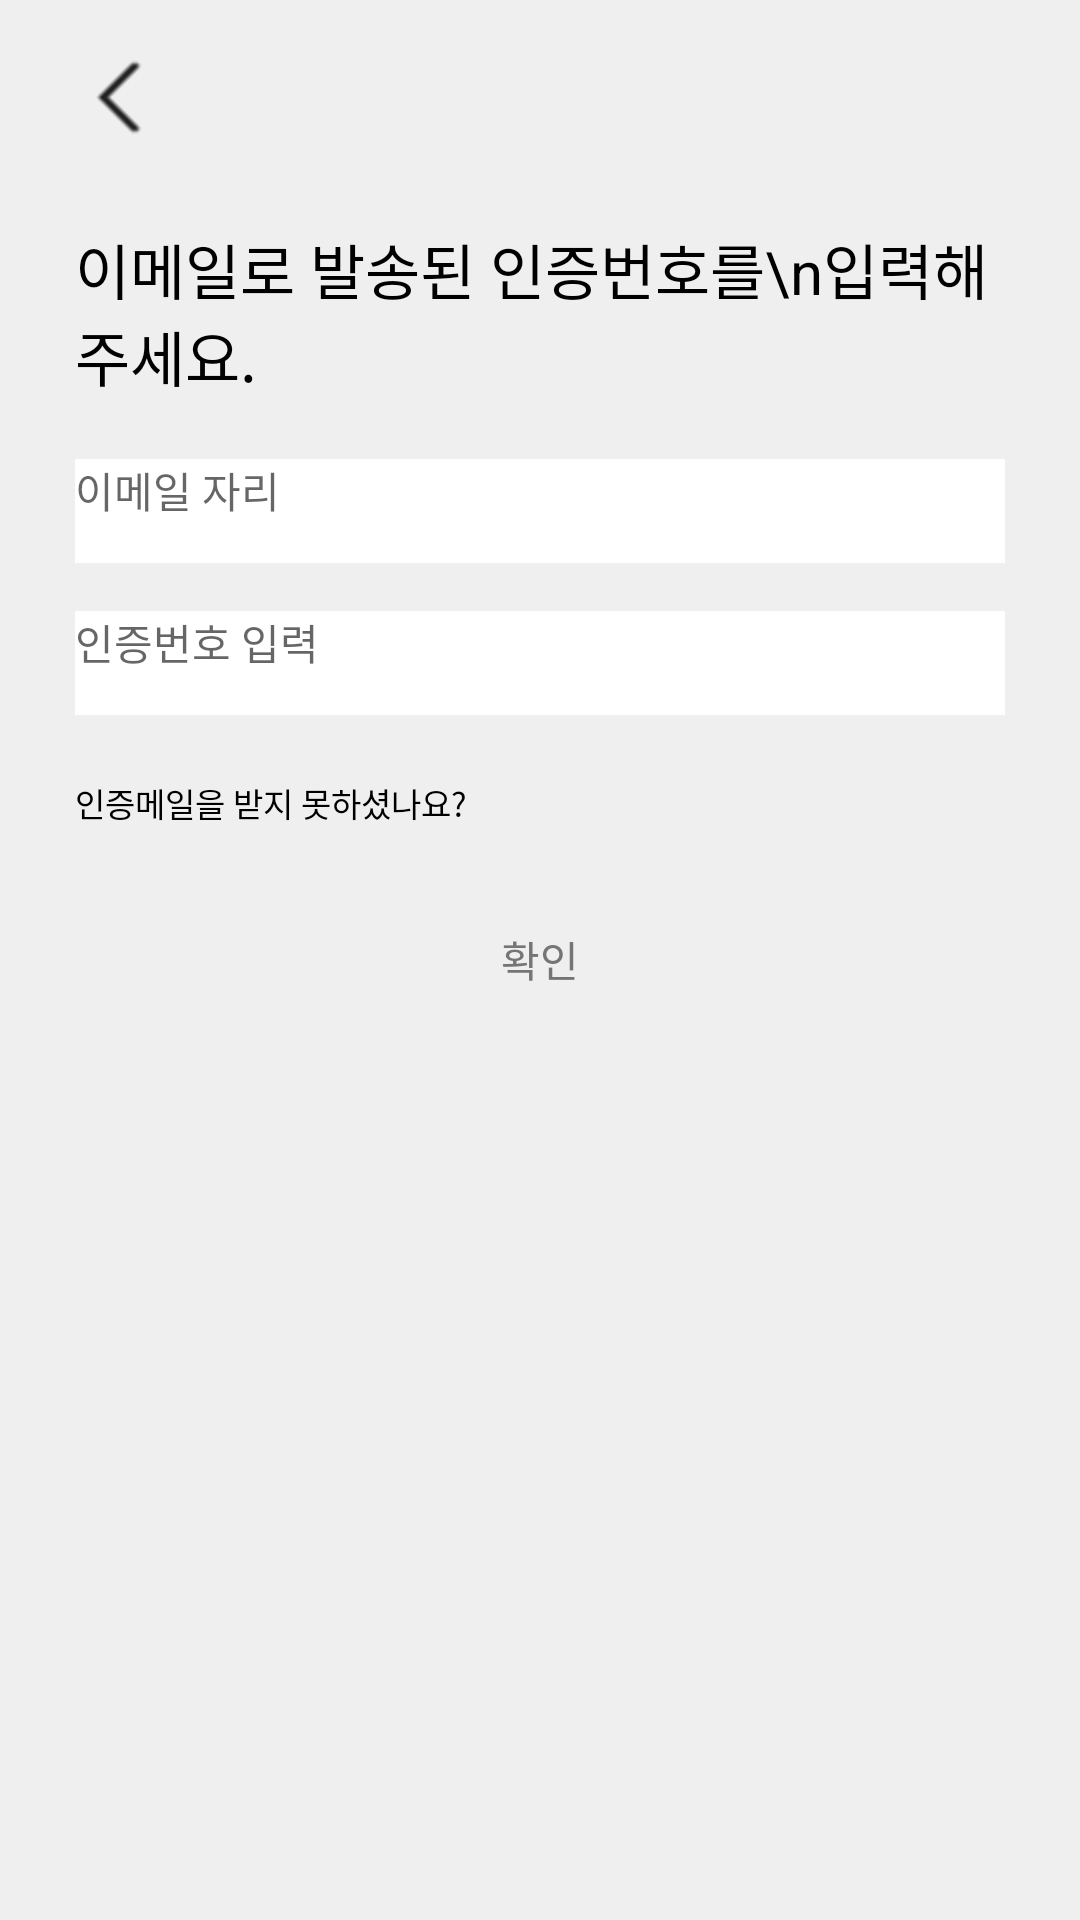

Locate icon controls on the screen. Image size 1080×1920, boxes as Rect(x1, y1, x2, y2).
left: Rect(97, 62, 140, 133)
